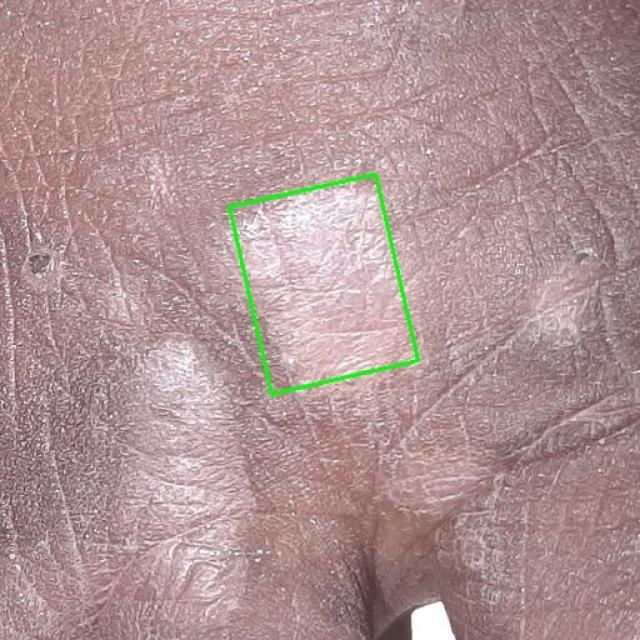Eczema: (229, 174, 418, 394)
